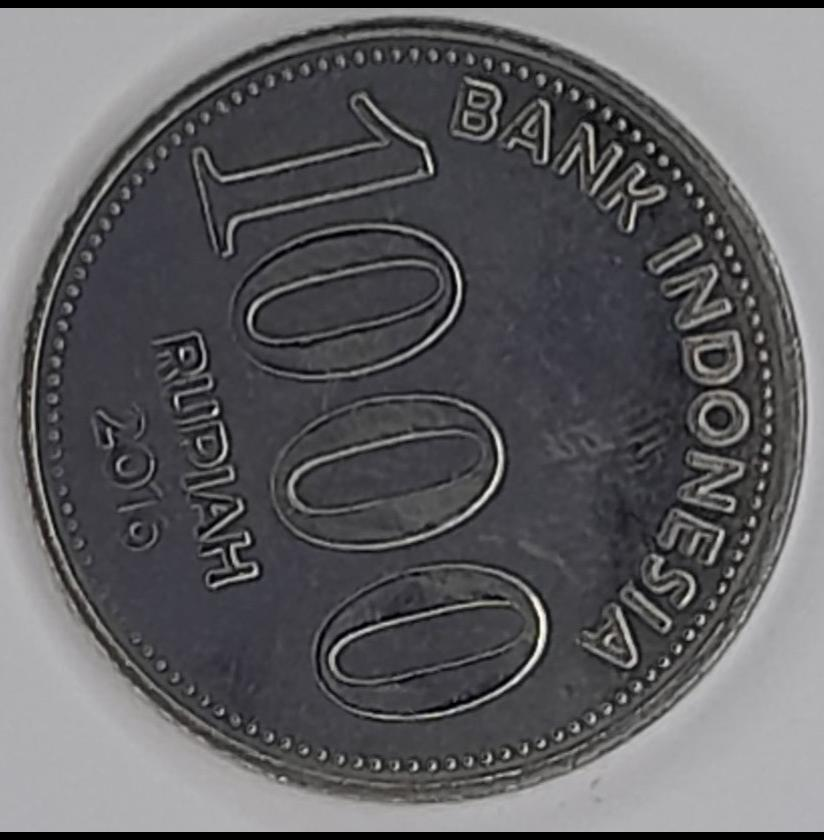coin_1000_e2016: (14, 17, 813, 840)
